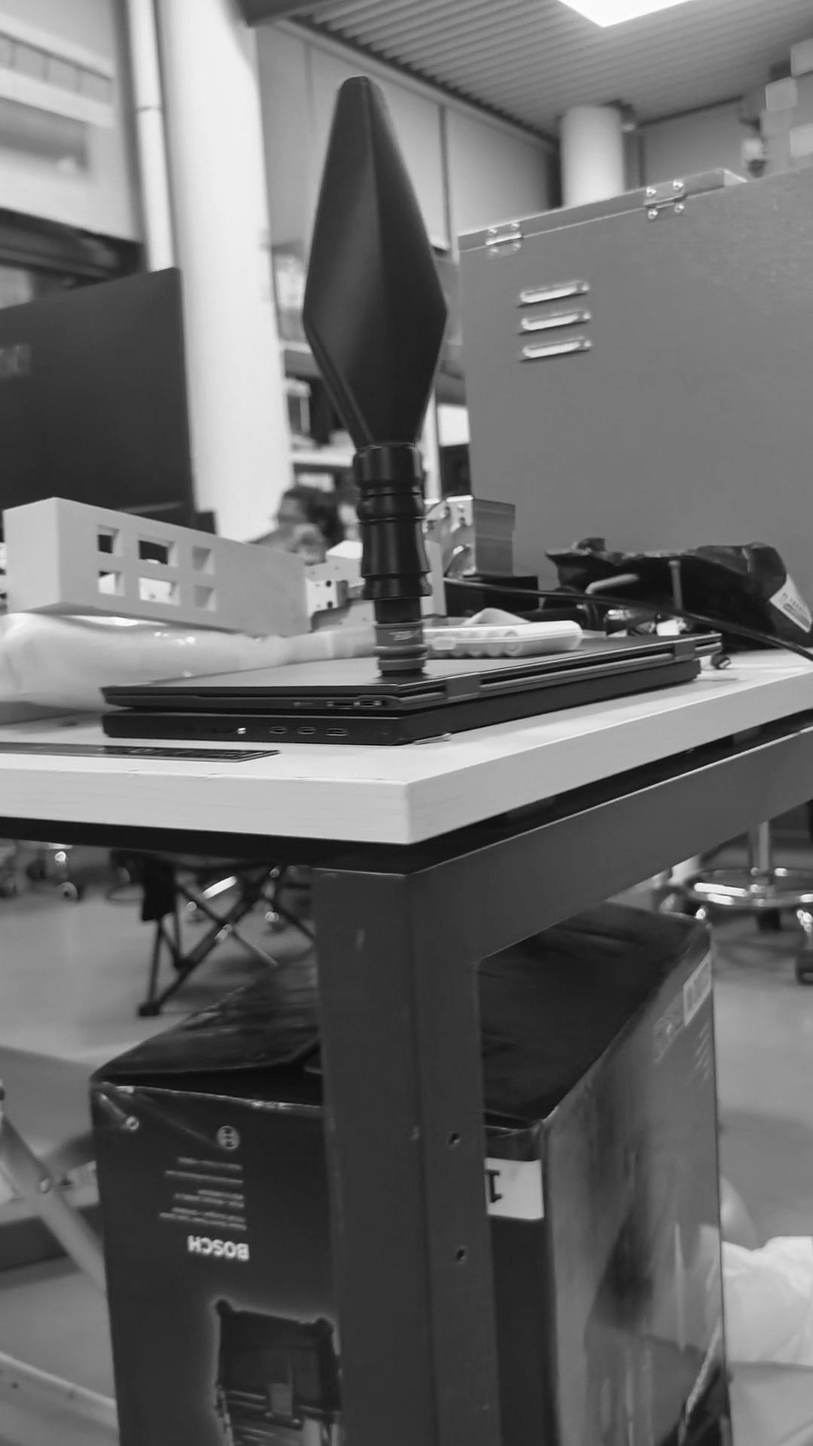base: (363, 614, 437, 691)
